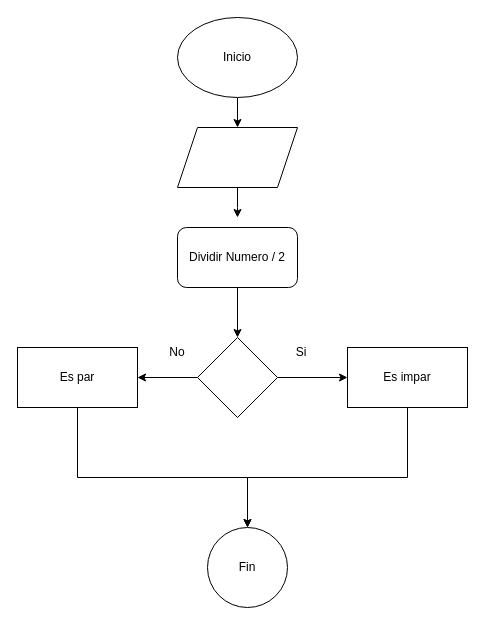
Image size: 485x625. Some labels were removed from this diagram. The centre of each missing label's shape, as x and y in pixels:
El resultado es tiene decimales ?: pixel 237 377
Numero: pixel 237 157
